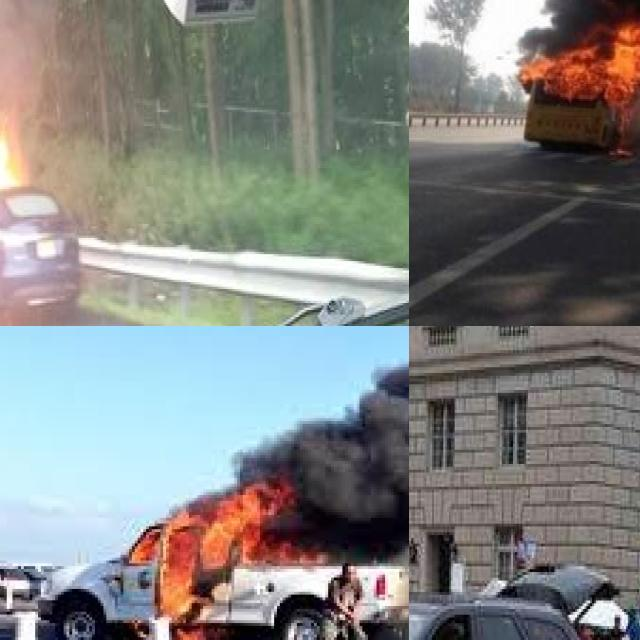fire: (123, 489, 339, 640), (528, 0, 640, 154), (0, 130, 22, 326)
smoke: (237, 326, 409, 560)
